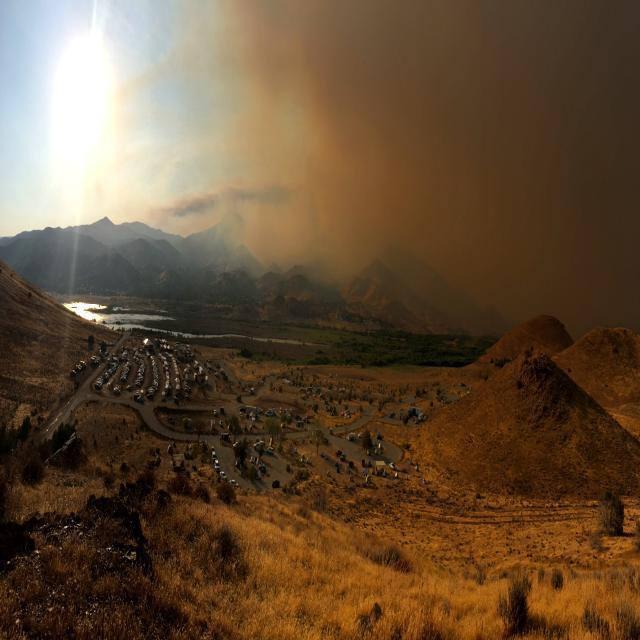Smoke: (160, 1, 637, 329)
